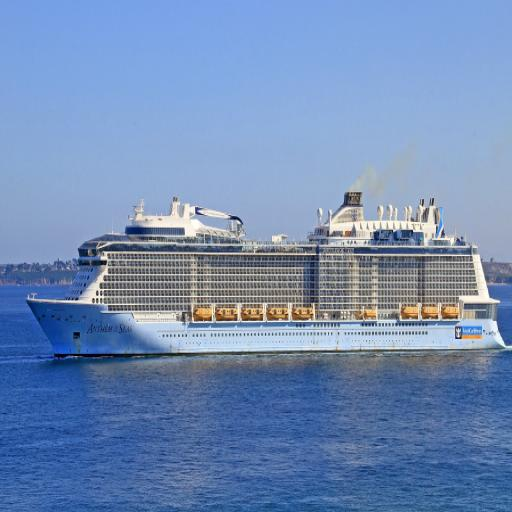cruises: (22, 189, 507, 358)
